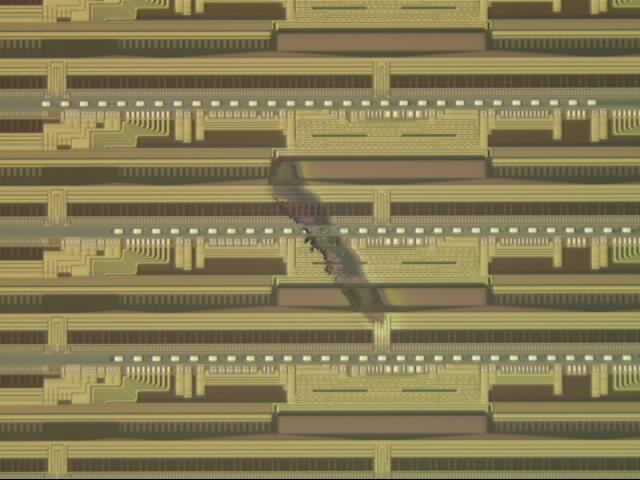PO CONTAMINATION: (259, 142, 408, 346)
